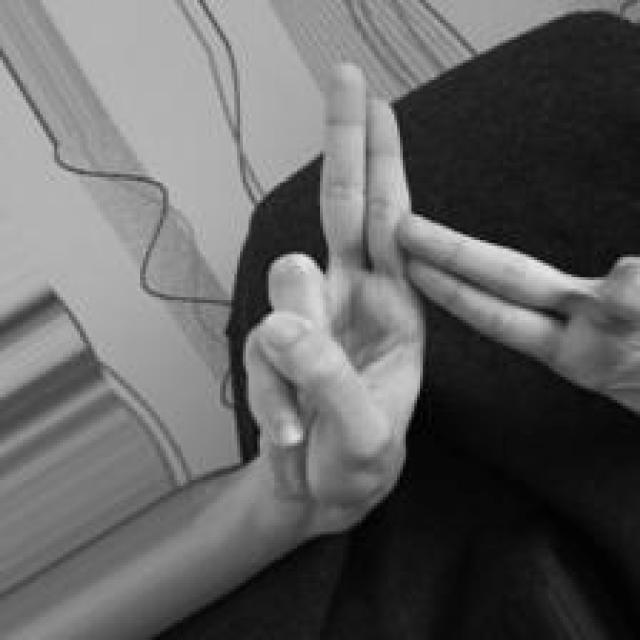K: (233, 55, 640, 535)
